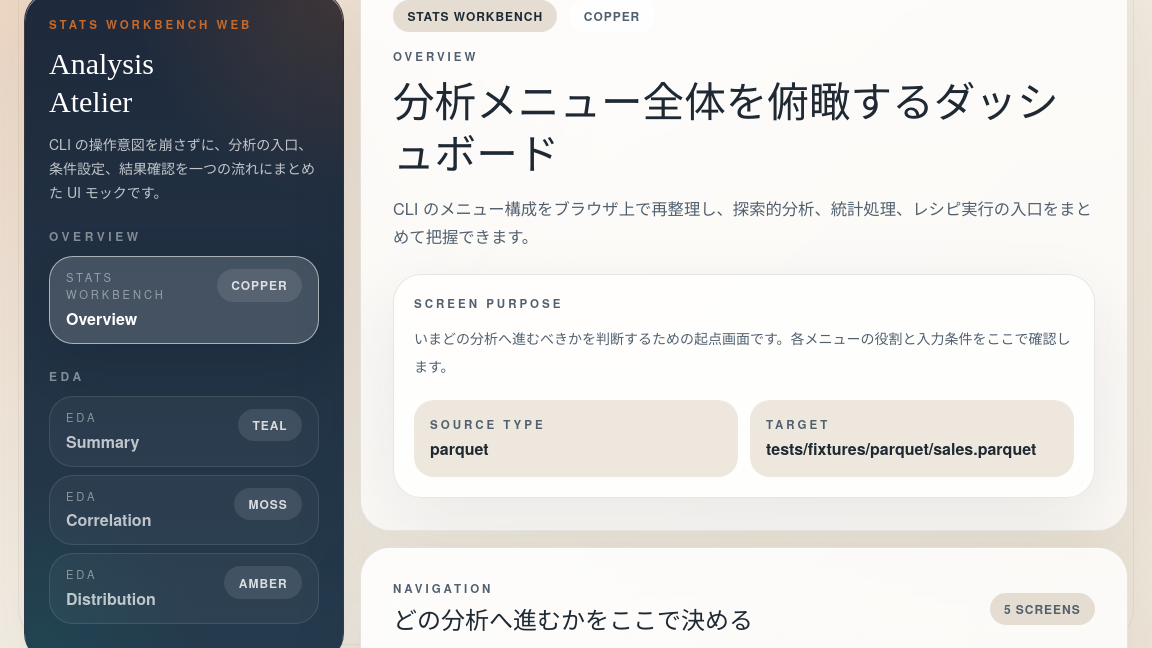
Stats Workbench web dashboard › navigates to the correlation screen from the sidebar
Click the button "EDA Correlation Moss" at (82,496), box [49, 475, 319, 546]
(page scrolled)
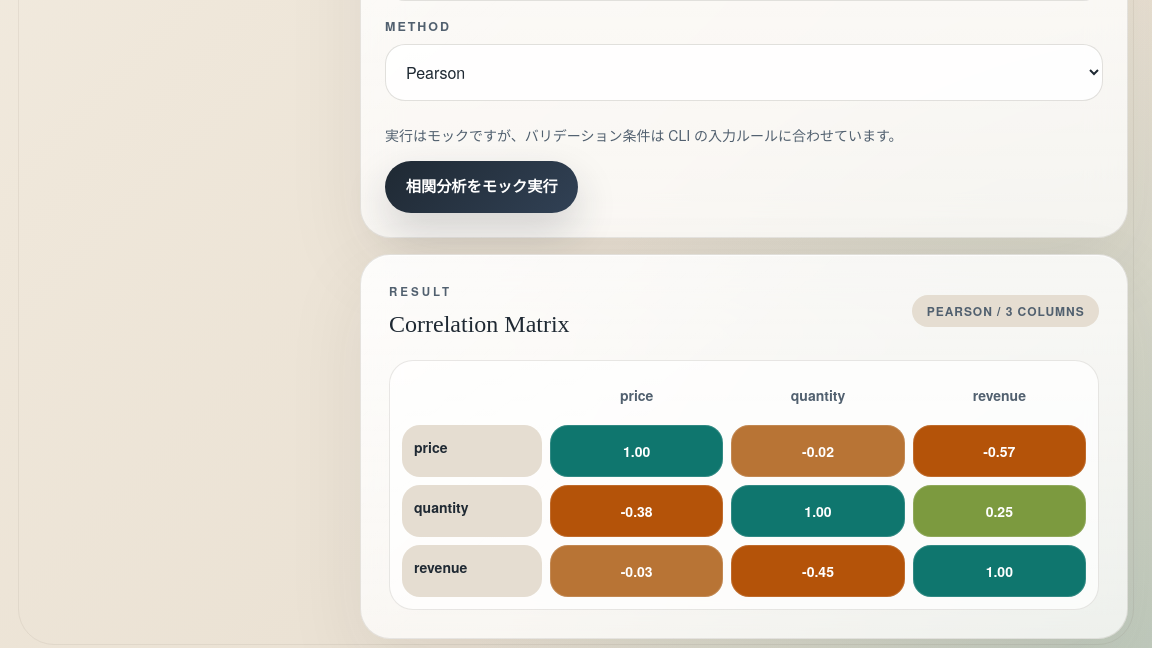
Result: the dropdown labelled "Method" is shown at [385, 44, 1103, 101]
Result: the heading "Correlation Matrix" is shown at [389, 308, 570, 340]
